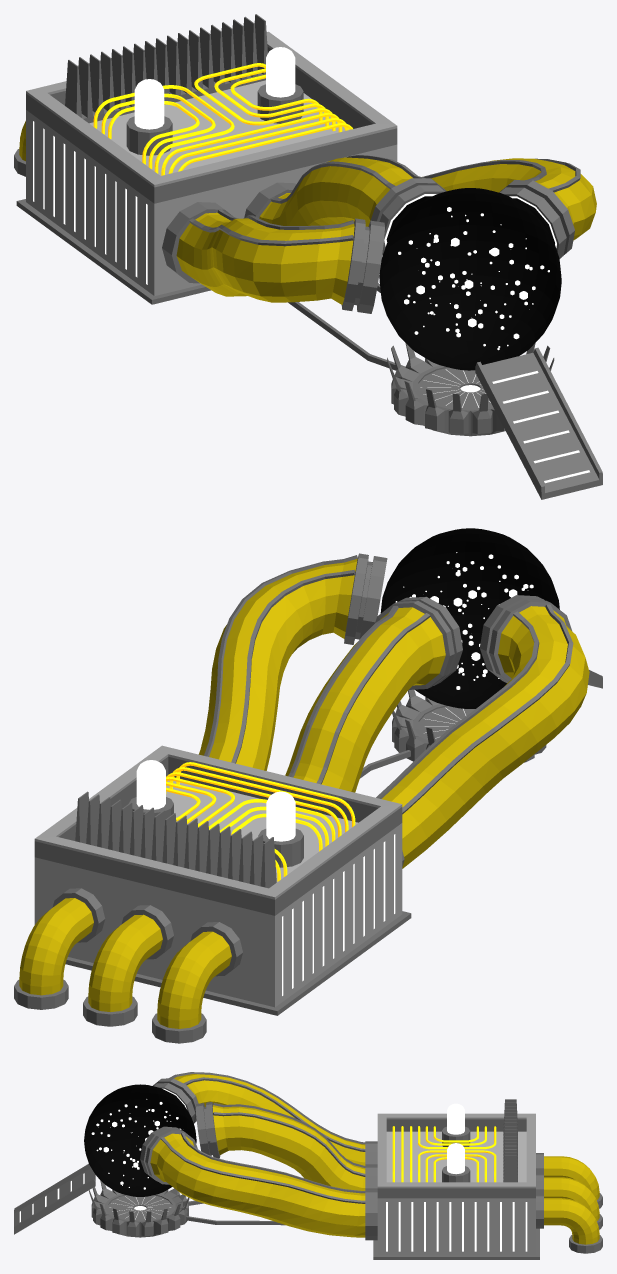
The picture shows the model from 3 angles, top to bottom: view 1: azimuth 30°, elevation 25°; view 2: azimuth 150°, elevation 25°; view 3: azimuth 270°, elevation 25°; orthographic projection. The views are drawn at different scales.
Size of the model in its own units: 10.21 by 6.23 by 24.43.
